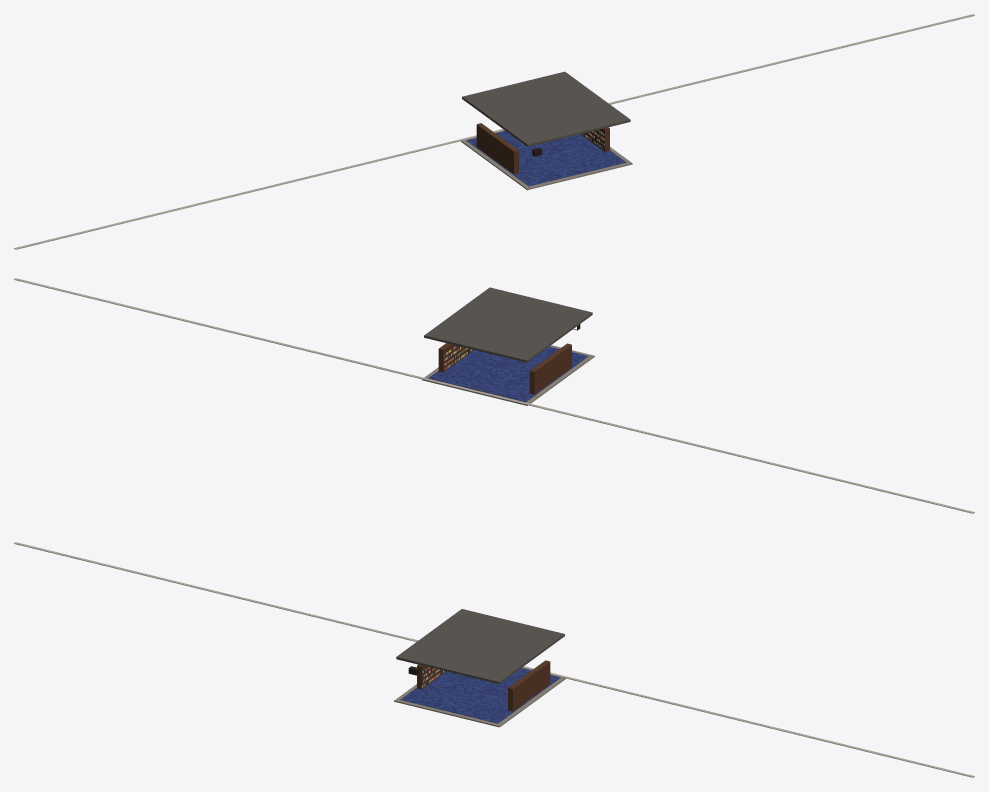
The model's file is structure.glb.
3 renders of one model, top to bottom at view 1: azimuth 30°, elevation 25°; view 2: azimuth 150°, elevation 25°; view 3: azimuth 330°, elevation 25°, orthographic.
Visible parts, largest first — view 1: Box6, Box3, Box2, Box8, Box1; view 2: Box6, Box3, Box2, Box8, Box1; view 3: Box6, Box3, Box2, Box367, Box1.
Boxes of the visible parts, x1,y1,x2,y2 form: Box6: (462, 71, 630, 146); Box3: (466, 130, 626, 186); Box2: (14, 14, 974, 249); Box8: (476, 123, 518, 174); Box1: (461, 130, 632, 190); Box6: (424, 287, 592, 362); Box3: (428, 346, 588, 402); Box2: (14, 278, 974, 513); Box8: (529, 343, 571, 394); Box1: (422, 345, 594, 405); Box6: (396, 609, 564, 683); Box3: (400, 668, 560, 723); Box2: (14, 542, 974, 777); Box367: (508, 660, 550, 711); Box1: (394, 668, 565, 727).
Size of the model in its own units: 88.5 by 3.93 by 10.77.
Materials: 17 (2 with a texture image).
